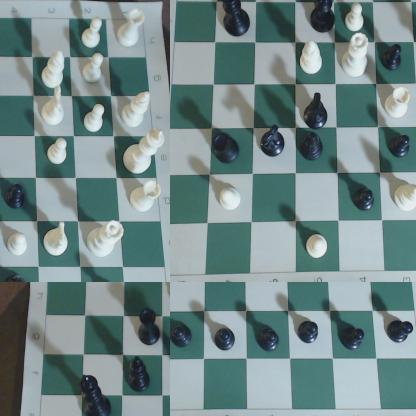black-bishop: (126, 355, 152, 394), (303, 130, 328, 166), (2, 268, 31, 282)
black-king: (81, 371, 114, 416), (220, 1, 253, 40)
black-knight: (302, 91, 329, 131), (260, 125, 288, 159)
black-pawn: (353, 180, 381, 217), (387, 314, 416, 346), (391, 131, 416, 168), (384, 47, 409, 79), (8, 179, 29, 217), (341, 325, 367, 353), (171, 321, 195, 350), (297, 318, 321, 346), (258, 325, 281, 354), (214, 325, 237, 353)
black-queen: (309, 1, 338, 35)
black-rook: (214, 127, 244, 169), (136, 309, 162, 350)
white-bishop: (119, 90, 154, 128), (297, 38, 326, 79), (41, 50, 70, 90), (393, 181, 416, 213)
white-king: (121, 129, 167, 177)
white-knight: (40, 85, 67, 128), (45, 222, 72, 258)
white-pawn: (305, 228, 334, 263), (81, 16, 105, 51), (46, 135, 70, 170), (84, 102, 109, 134), (84, 54, 108, 87), (7, 229, 28, 265), (346, 4, 368, 37), (221, 184, 238, 212)
white-queen: (86, 220, 127, 259), (341, 35, 370, 80)
white-rook: (129, 181, 166, 216), (120, 6, 149, 50), (387, 85, 411, 125)
